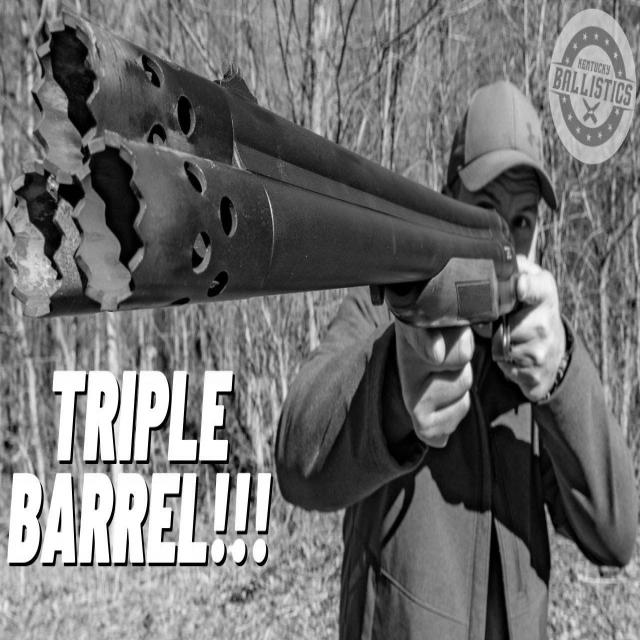Short-Gun: (5, 16, 538, 336)
